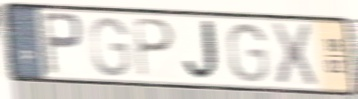G: (225, 21, 271, 84), (88, 14, 132, 79)
J: (182, 18, 226, 84)
P: (39, 10, 86, 78), (131, 16, 177, 80)
X: (268, 20, 320, 88)
